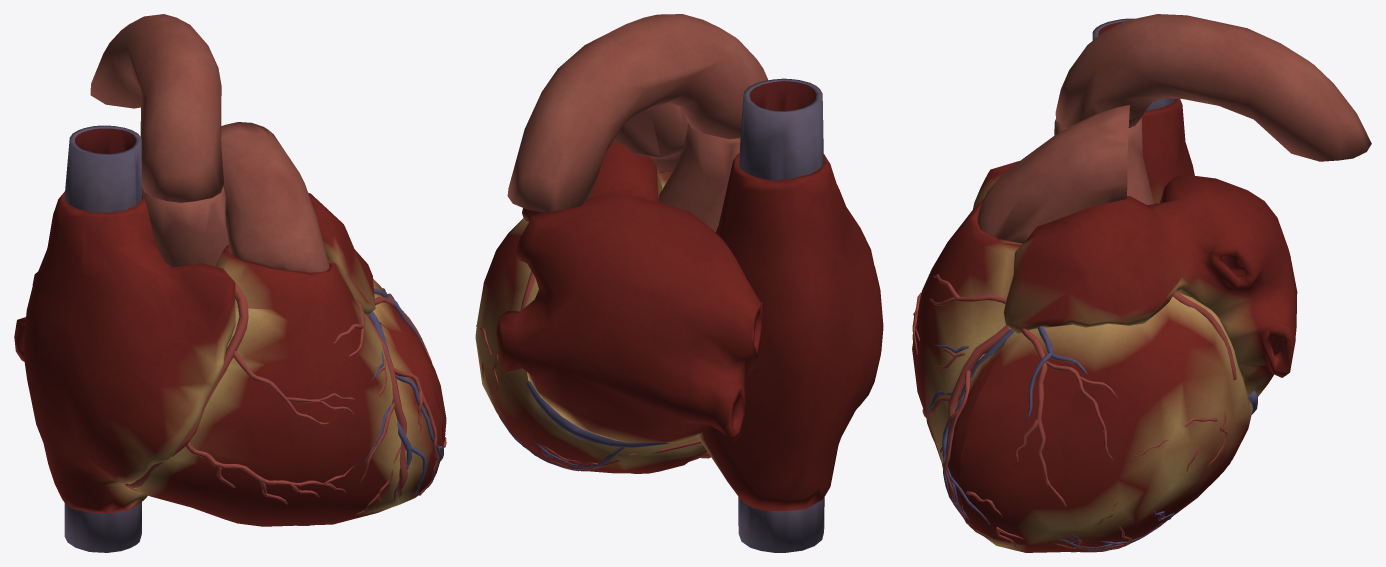
The model's file is heart3-full.2ab48028.glb.
The picture shows the model from 3 angles, left to right: view 1: azimuth 30°, elevation 25°; view 2: azimuth 150°, elevation 25°; view 3: azimuth 270°, elevation 25°; orthographic projection. The views are drawn at different scales.
Visible parts, largest first — view 1: Heart_Wall_RightVentricle, Heart_Wall_RightAtrium, Aorta_Arch, PulmonaryTrunk, VenaCava_Superior, Aorta_Ascending, Heart_Wall_LeftAtrium, VenaCava_Inferior, Heart_Wall_LeftVentricle, CoronaryVein_AnteriorInterventricularVein, CoronaryArtery_Trunk_RCA, CoronaryArtery_MarginalBranch_RCA (+3 smaller); view 2: Heart_Wall_LeftAtrium, Heart_Wall_RightAtrium, Aorta_Arch, Heart_Wall_LeftVentricle, VenaCava_Superior, Aorta_Ascending, VenaCava_Inferior, PulmonaryTrunk, CoronaryVein_CoronarySinus, CoronaryVein_PosteriorVeinOfLeftVentricle; view 3: Heart_Wall_LeftVentricle, Heart_Wall_LeftAtrium, Aorta_Arch, Heart_Wall_RightVentricle, PulmonaryTrunk, Heart_Wall_RightAtrium, CoronaryArtery_DiagonalBranch_LAD, CoronaryVein_AnteriorInterventricularVein, Aorta_Ascending, CoronaryArtery_CircumflexBranch_LCA, CoronaryArtery_Trunk_LAD.
Boxes of the visible parts, x1,y1,x2,y2 form: Heart_Wall_RightVentricle: (128,245,442,526); Heart_Wall_RightAtrium: (23,191,235,513); Aorta_Arch: (90,14,223,202); PulmonaryTrunk: (221,122,329,272); VenaCava_Superior: (64,125,141,212); Aorta_Ascending: (142,186,228,267); Heart_Wall_LeftAtrium: (14,193,375,361); VenaCava_Inferior: (64,502,141,552); Heart_Wall_LeftVentricle: (373,278,446,505); CoronaryVein_AnteriorInterventricularVein: (364,288,443,501); CoronaryArtery_Trunk_RCA: (124,284,248,492); CoronaryArtery_MarginalBranch_RCA: (186,442,354,504); Heart_Wall_LeftAtrium: (496,141,762,442); Heart_Wall_RightAtrium: (697,153,883,510); Aorta_Arch: (507,14,767,212); Heart_Wall_LeftVentricle: (475,172,705,473); VenaCava_Superior: (738,78,823,180); Aorta_Ascending: (658,123,740,231); VenaCava_Inferior: (738,497,824,552); PulmonaryTrunk: (613,103,688,172); CoronaryVein_CoronarySinus: (526,381,669,447); CoronaryVein_PosteriorVeinOfLeftVentricle: (498,415,624,471); Heart_Wall_LeftVentricle: (959,293,1252,552); Heart_Wall_LeftAtrium: (1003,175,1297,396); Aorta_Arch: (1055,14,1371,161); Heart_Wall_RightVentricle: (912,199,1022,524); PulmonaryTrunk: (977,105,1129,243); Heart_Wall_RightAtrium: (973,98,1194,208); CoronaryArtery_DiagonalBranch_LAD: (943,328,1118,548); CoronaryVein_AnteriorInterventricularVein: (926,326,1087,525); Aorta_Ascending: (1054,118,1153,204); CoronaryArtery_CircumflexBranch_LCA: (1096,291,1236,524); CoronaryArtery_Trunk_LAD: (948,325,1009,429).
Size of the model in its own units: 0.1157 by 0.146 by 0.127.
Materials: 7 (2 with a texture image).
